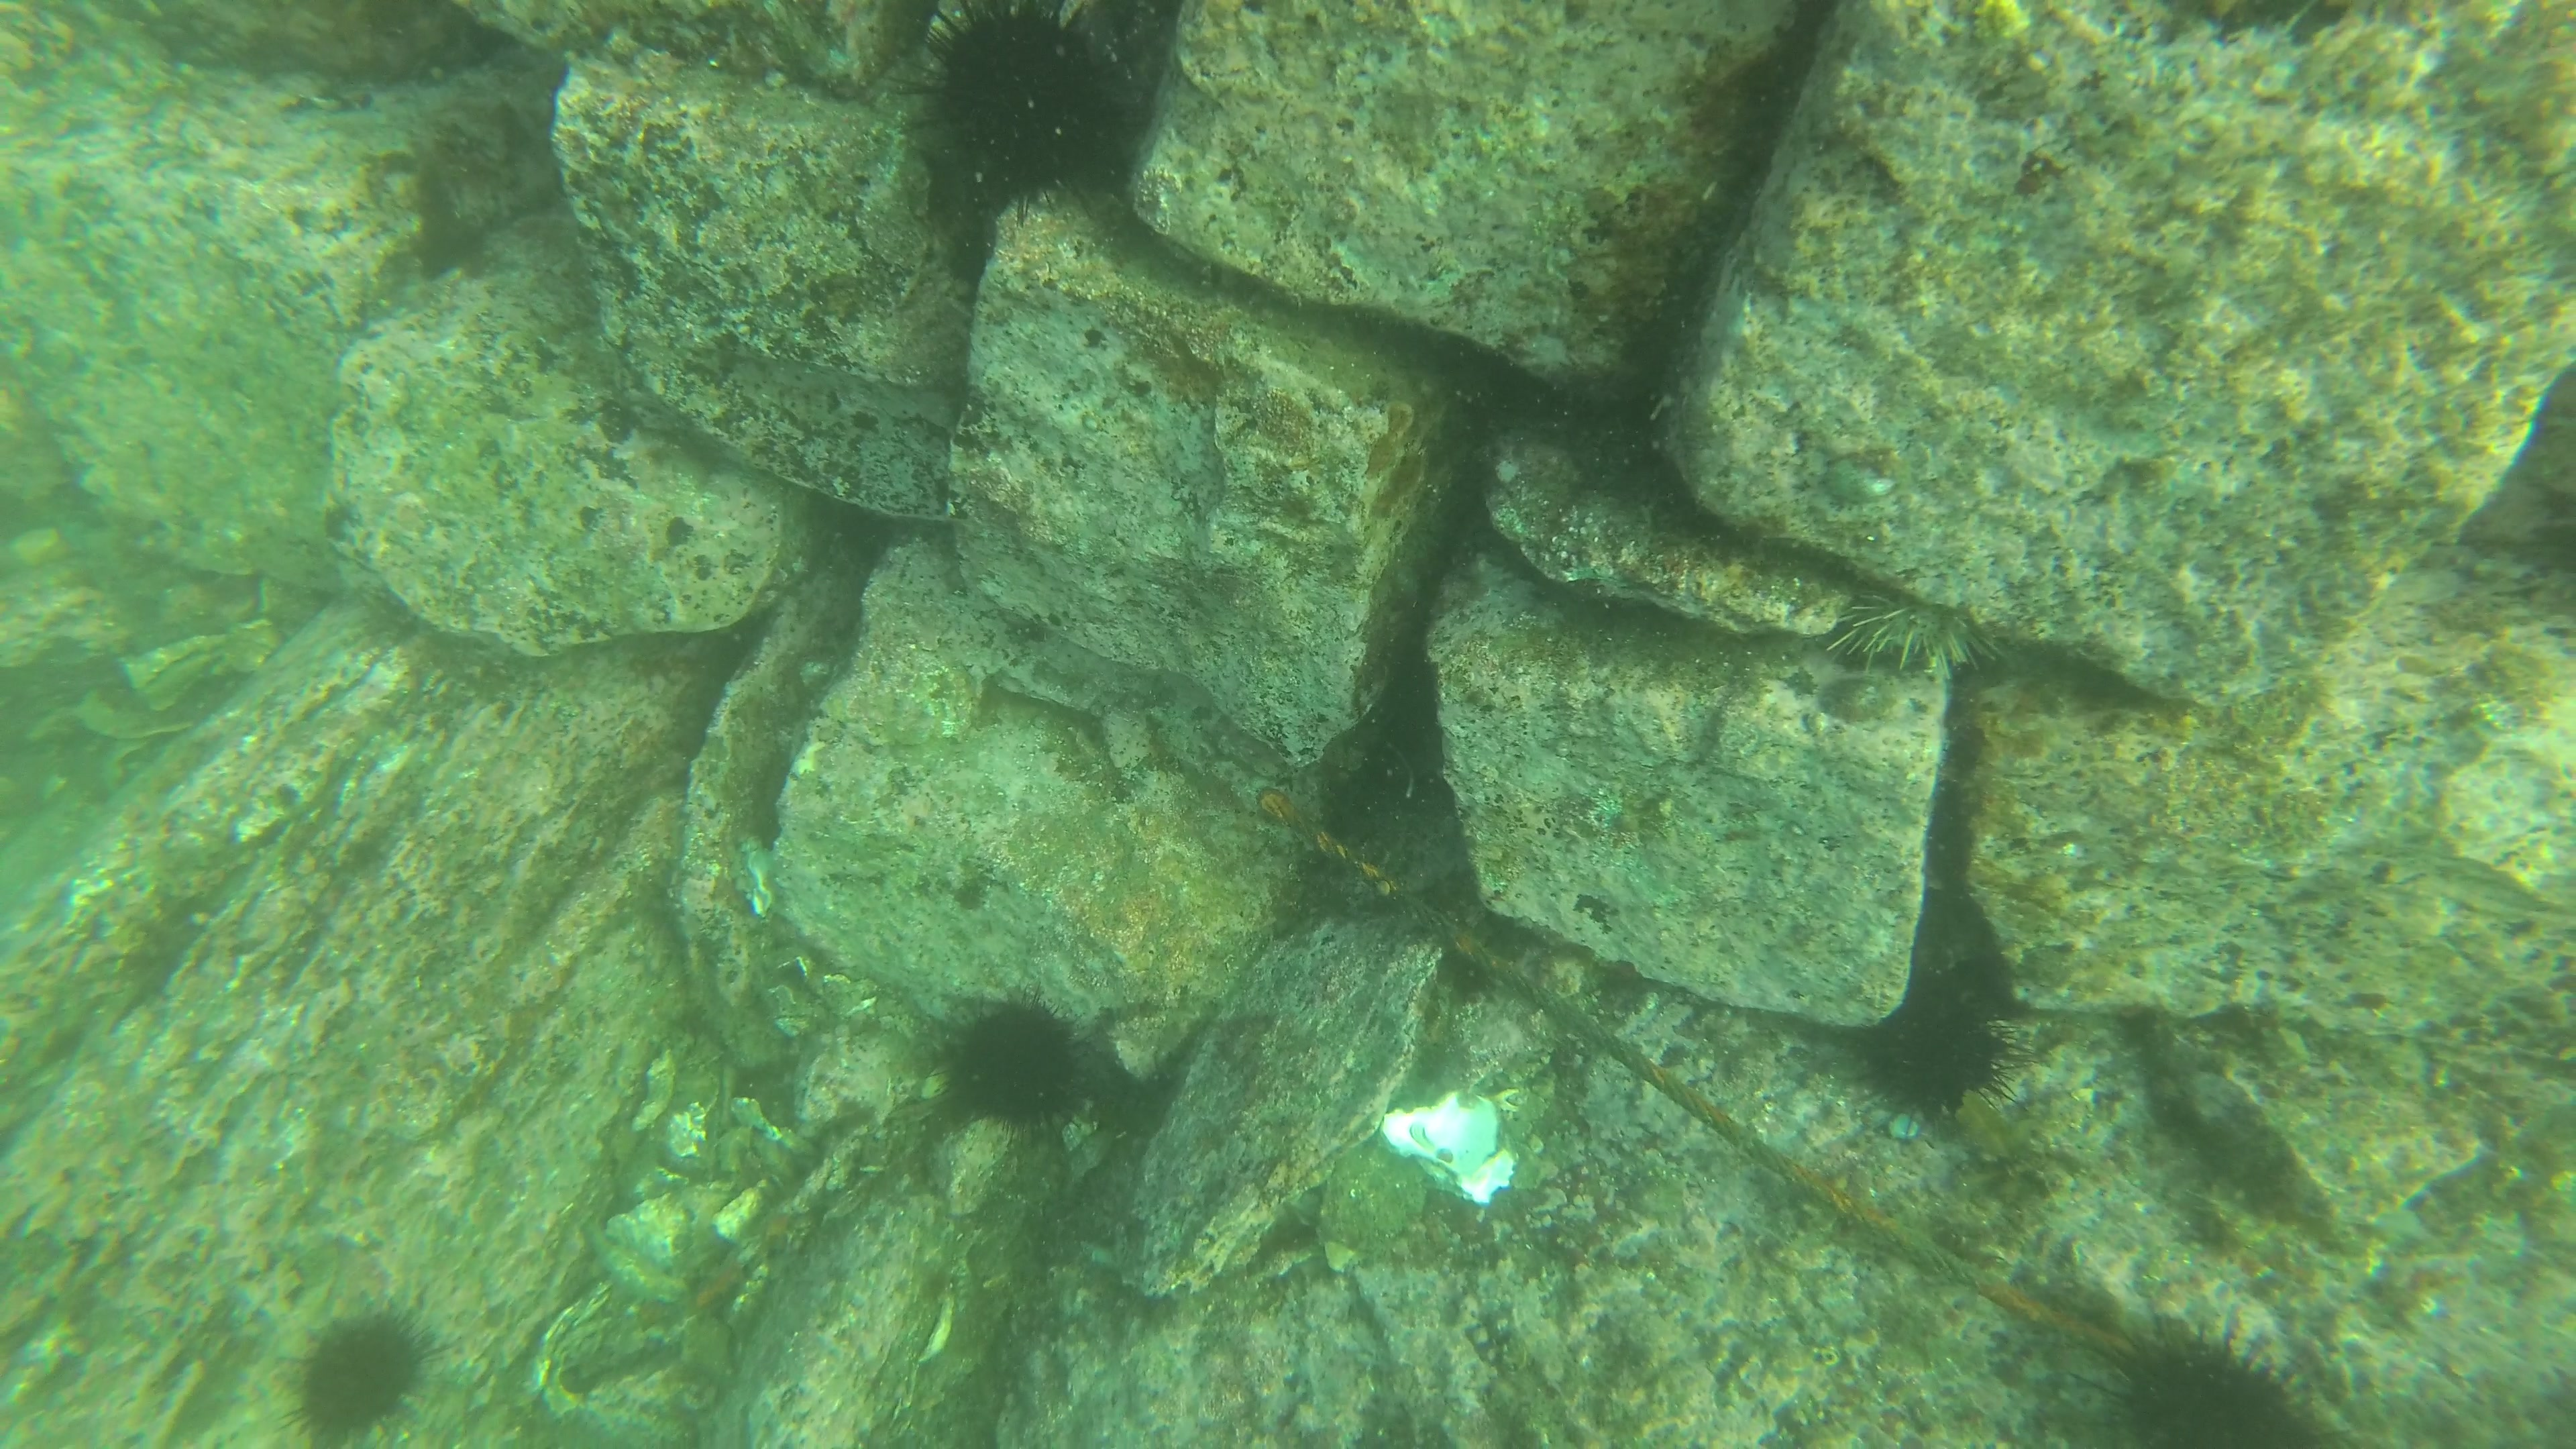echinus: (911, 0, 1136, 205), (2093, 1323, 2309, 1449), (1867, 977, 2022, 1125), (278, 1304, 435, 1449), (1828, 570, 2029, 678), (948, 987, 1081, 1122)
